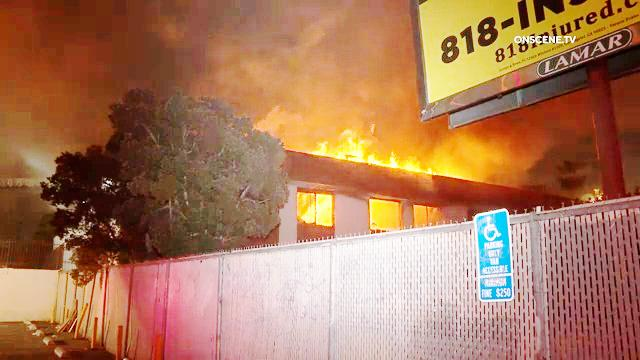fire: (306, 132, 439, 180)
